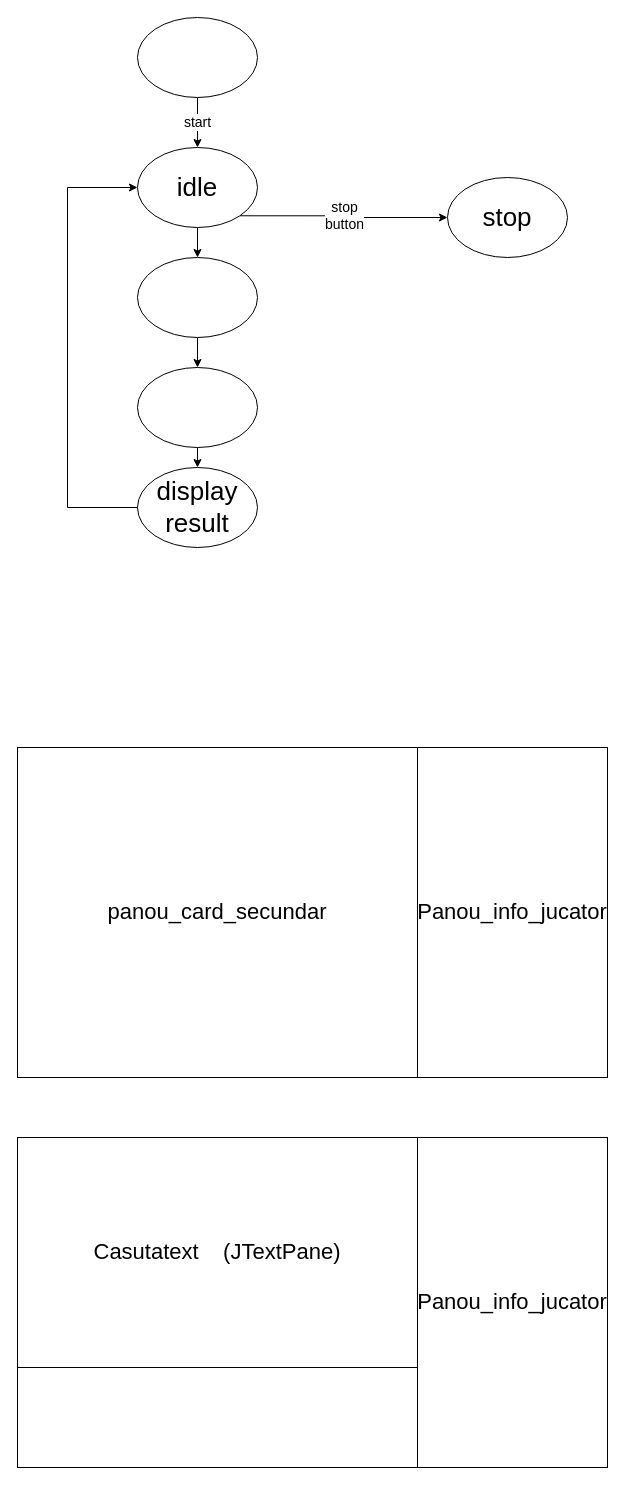
This 625x1485 diagram has some shape labels left out. The shapes that lost their labels are listed below. From the top down, each one's centre as x and y in pixels, then its label:
At pixel 197 57: "init".
At pixel 197 297: "input picture".
At pixel 197 407: "calculate result".
At pixel 217 1417: "panou_alegeri".
